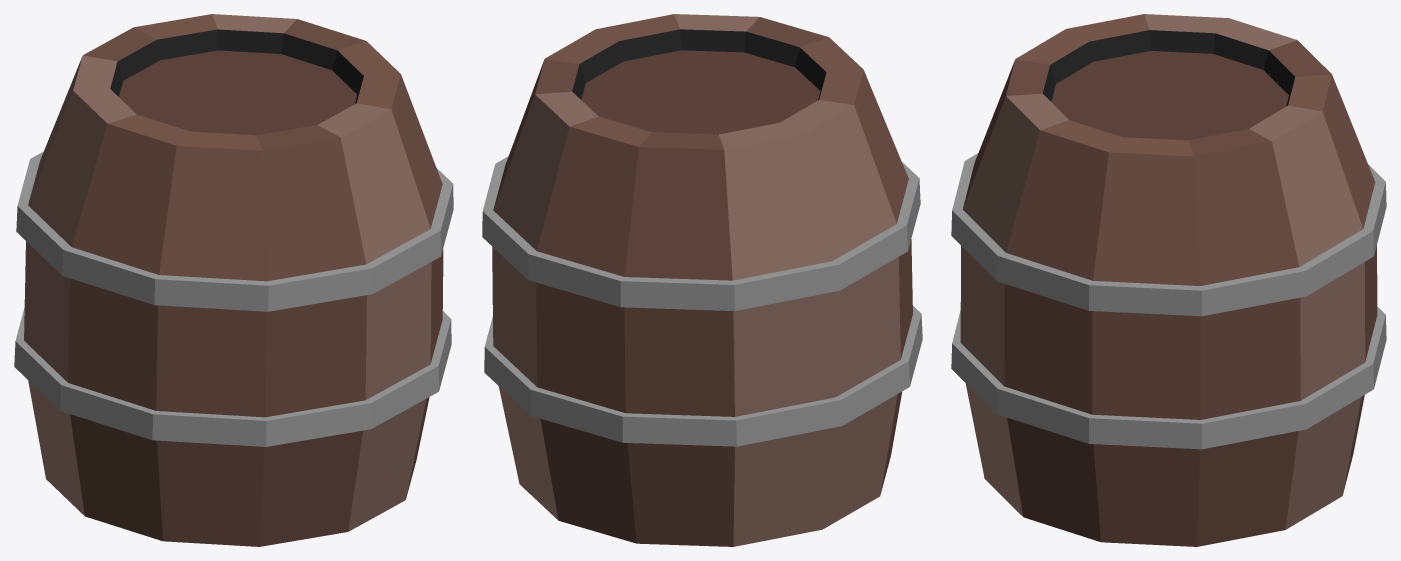
The model's file is prop_035.fbx.
3 views of the same model, side by side, from view 1: azimuth 30°, elevation 25°; view 2: azimuth 150°, elevation 25°; view 3: azimuth 270°, elevation 25° (orthographic).
Parts seen in each view (by area): view 1: prop.035; view 2: prop.035; view 3: prop.035.
Part boxes in pixels (box(x1,y1,x2,y2)): prop.035: box(14, 14, 453, 546); prop.035: box(482, 14, 922, 546); prop.035: box(951, 14, 1386, 546).
Size of the model in its own units: 176 by 173 by 175.
Materials: 1 (1 with a texture image).
